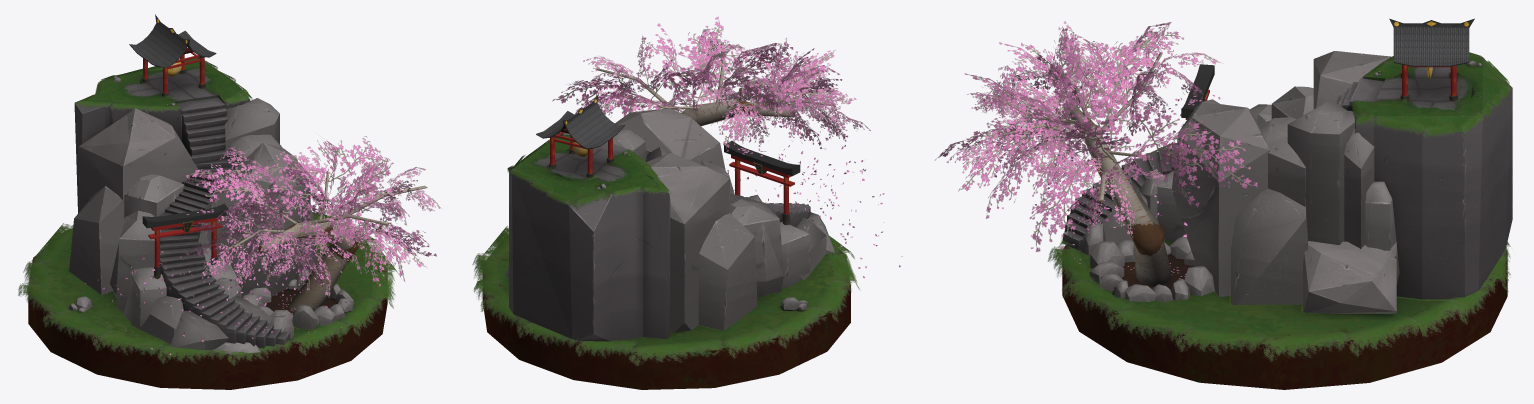
The picture shows the model from 3 angles, left to right: view 1: azimuth 30°, elevation 25°; view 2: azimuth 150°, elevation 25°; view 3: azimuth 270°, elevation 25°; orthographic projection. The views are drawn at different scales.
Visible parts, largest first — view 1: Base_Material #9_0, Box106, Box176, Box092, Box001, Box166, Tree_01, Box178, Box197_Material #8_0, Temple_11, Box210, Box191 (+46 smaller); view 2: Box001, Base_Material #9_0, Box092, Box166, Box176, Box178, Temple_11, Box192, Grass_Patch_20_Material #8_0, Tree_01, Leafs_38_Material #7_0, Leafs_52_Material #7_0 (+36 smaller); view 3: Base_Material #9_0, Box001, Box176, Box212, Box215, Box210, Tree_01, Box197_Material #8_0, Box106, Temple_11, Box213, Box095 (+45 smaller).
Boxes of the visible parts, left/top/right/bottom form: Base_Material #9_0: left=28, top=218, right=387, bottom=389; Box106: left=158, top=98, right=290, bottom=350; Box176: left=206, top=142, right=310, bottom=297; Box092: left=78, top=108, right=197, bottom=220; Box001: left=74, top=58, right=250, bottom=226; Box166: left=69, top=186, right=123, bottom=294; Tree_01: left=258, top=218, right=359, bottom=310; Box178: left=110, top=210, right=160, bottom=310; Box197_Material #8_0: left=243, top=269, right=353, bottom=329; Temple_11: left=129, top=14, right=216, bottom=67; Box210: left=225, top=98, right=279, bottom=152; Box191: left=124, top=174, right=184, bottom=219; Box001: left=509, top=135, right=670, bottom=341; Base_Material #9_0: left=482, top=235, right=850, bottom=389; Box092: left=647, top=152, right=729, bottom=332; Box166: left=698, top=213, right=757, bottom=330; Box176: left=615, top=108, right=725, bottom=170; Box178: left=731, top=199, right=783, bottom=297; Temple_11: left=536, top=94, right=624, bottom=149; Box192: left=780, top=221, right=809, bottom=287; Grass_Patch_20_Material #8_0: left=628, top=339, right=727, bottom=366; Tree_01: left=681, top=99, right=795, bottom=126; Leafs_38_Material #7_0: left=733, top=73, right=829, bottom=131; Leafs_52_Material #7_0: left=677, top=16, right=729, bottom=104; Base_Material #9_0: left=1062, top=239, right=1507, bottom=389; Box001: left=1354, top=55, right=1512, bottom=299; Box176: left=1171, top=99, right=1269, bottom=296; Box212: left=1231, top=188, right=1308, bottom=304; Box215: left=1303, top=241, right=1396, bottom=313; Box210: left=1287, top=99, right=1354, bottom=245; Tree_01: left=1063, top=103, right=1171, bottom=286; Box197_Material #8_0: left=1089, top=236, right=1214, bottom=302; Box106: left=1063, top=78, right=1383, bottom=250; Temple_11: left=1389, top=18, right=1474, bottom=66; Box213: left=1344, top=129, right=1374, bottom=248; Box095: left=1261, top=117, right=1305, bottom=206.
Bounding box in the file's own units: 671 × 434 × 791.
3 materials, 3 textured.
